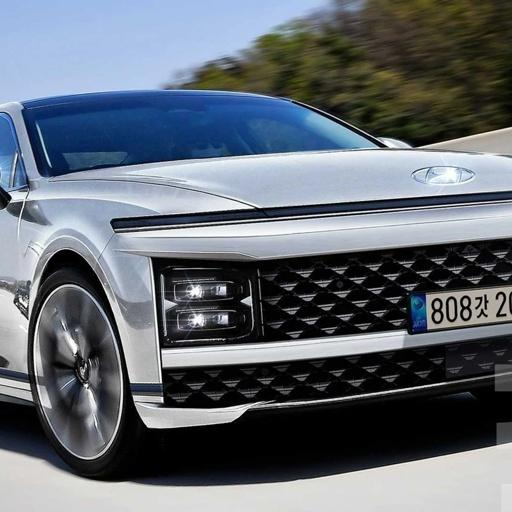sedan: (0, 90, 511, 476)
